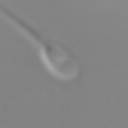normal: (1, 3, 45, 45)
